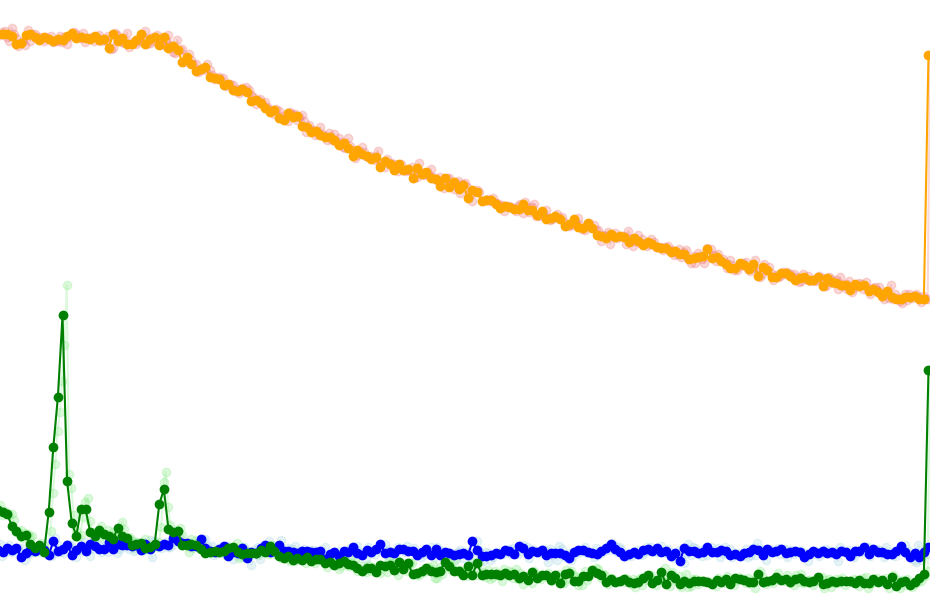CO2 Problem: (219, 0, 550, 616), (661, 0, 928, 616), (550, 0, 661, 616)
Condensation (CO2): (550, 0, 882, 616)
Low CO2: (219, 0, 550, 616), (661, 0, 928, 616), (550, 0, 661, 616)
Normal: (550, 0, 928, 616), (550, 0, 882, 616), (219, 0, 550, 616), (661, 0, 928, 616), (661, 0, 882, 616), (550, 0, 661, 616)
O2 Problem: (661, 0, 882, 616)
